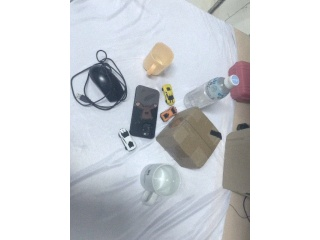bottle: (183, 75, 239, 109)
box: (157, 107, 222, 169), (222, 126, 249, 195)
cup: (140, 162, 181, 197), (142, 42, 175, 78)
mouse: (87, 62, 127, 104)
phone: (128, 85, 161, 139)
toy_car: (118, 127, 137, 151), (162, 84, 175, 106), (160, 107, 176, 122)
